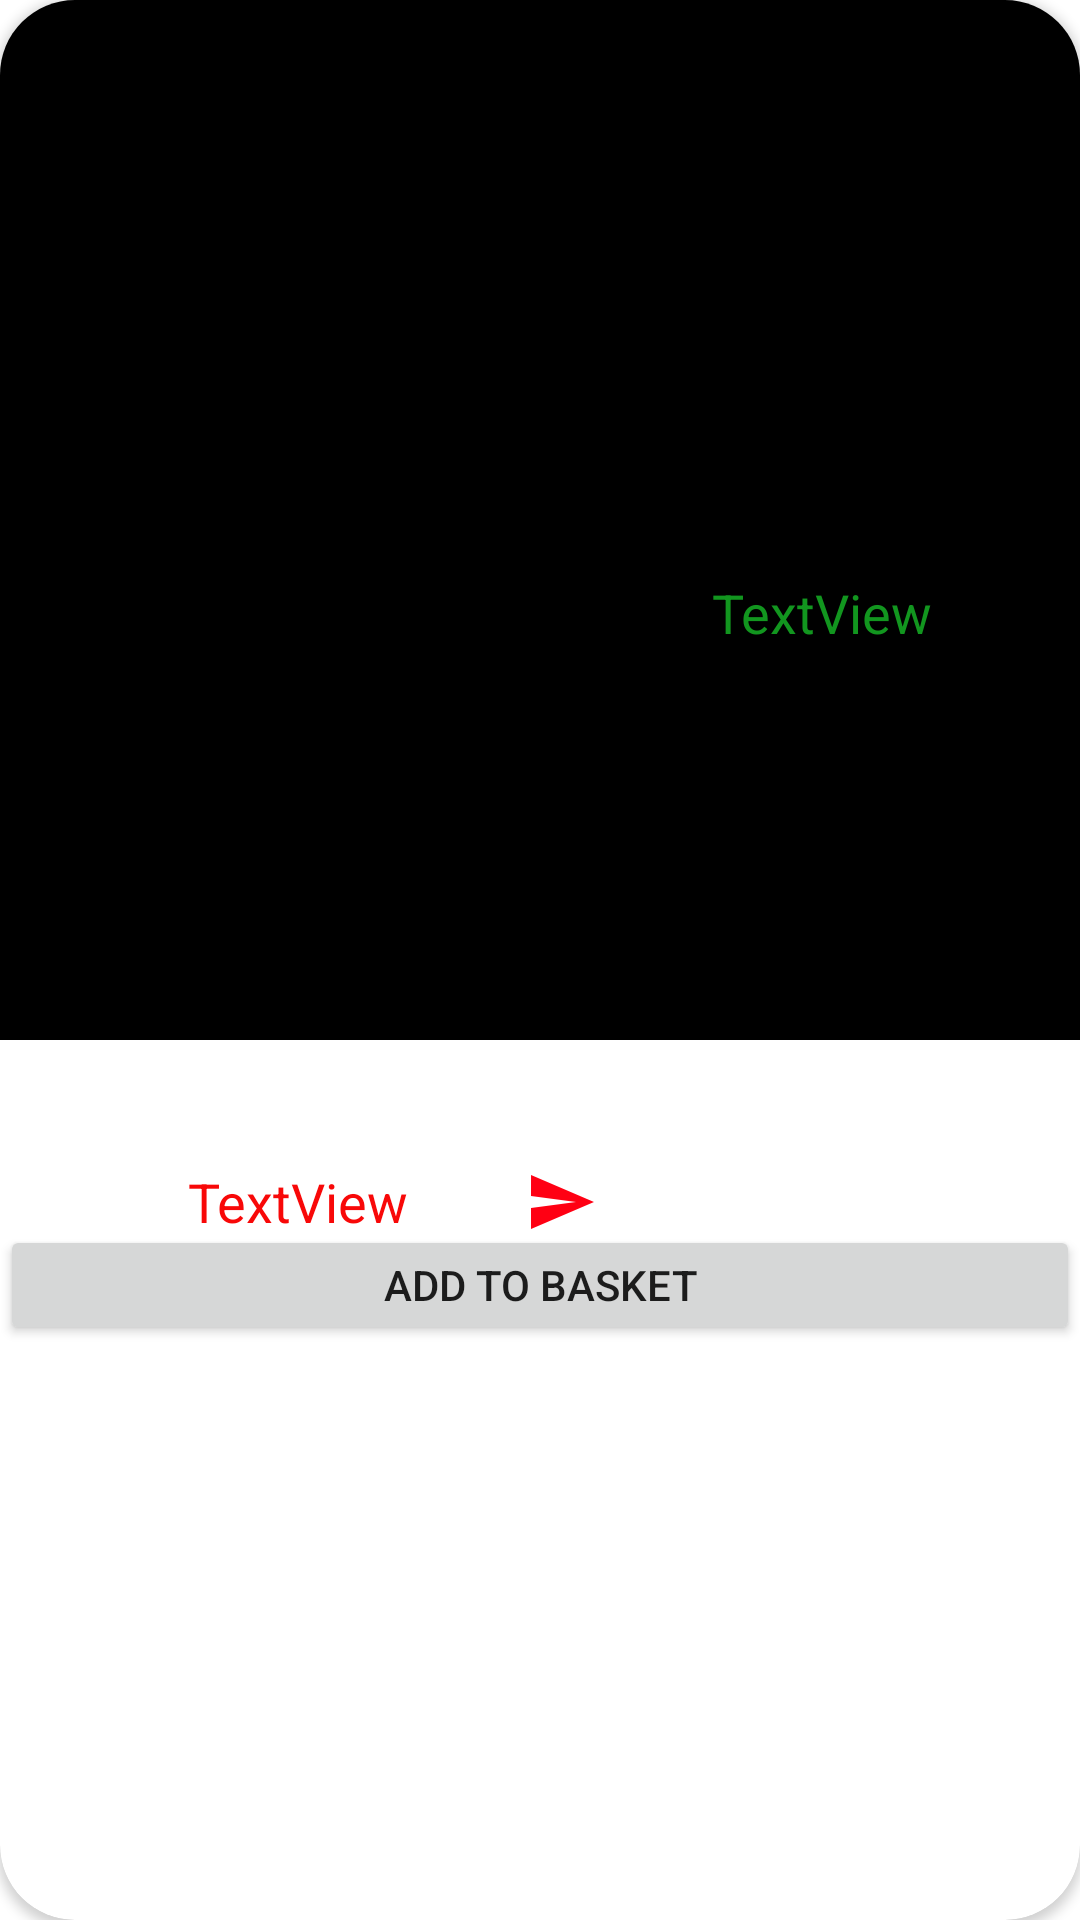

Point at icon controls on the screen. Image size 1080w x 1920h, points as (x,y).
send: (562,1202)
